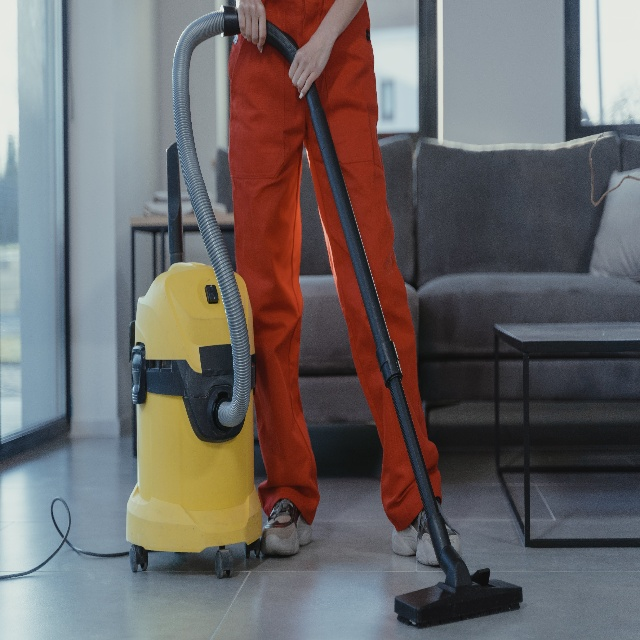Sin_guantes: (288, 28, 334, 99), (238, 0, 267, 54)
